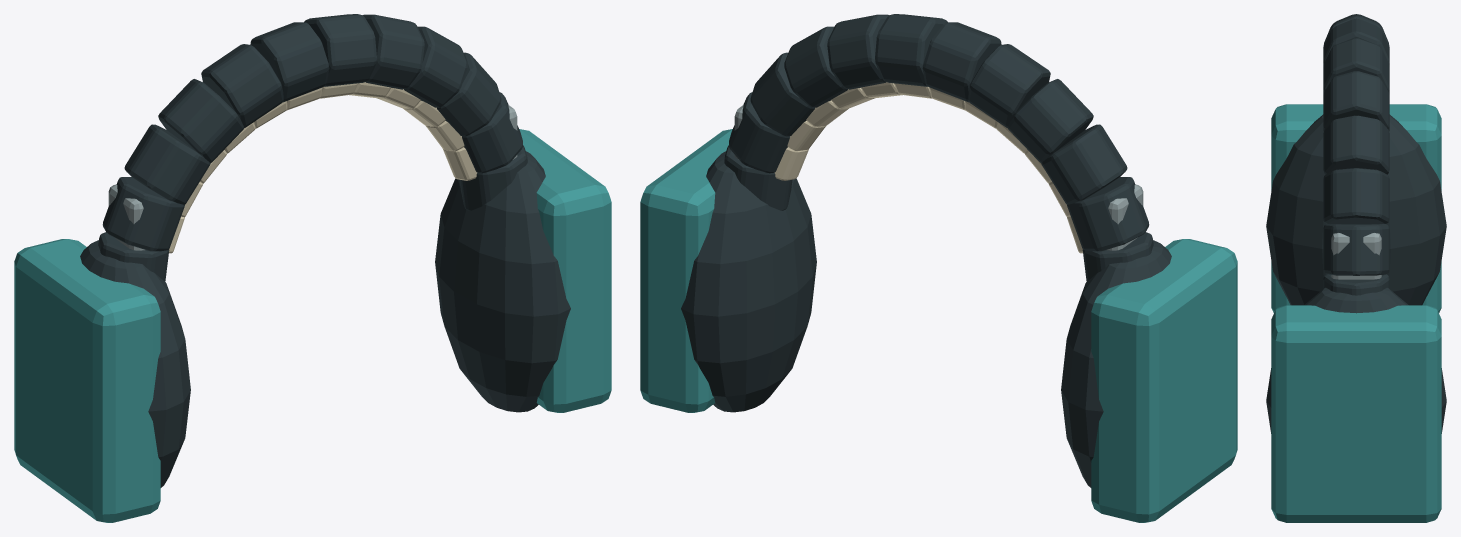
The model's file is P055_headphones.glb.
3 renders of one model, left to right at view 1: azimuth 30°, elevation 25°; view 2: azimuth 150°, elevation 25°; view 3: azimuth 270°, elevation 25°, orthographic. The views are drawn at different scales.
Parts seen in each view (by area): view 1: P055_earcup_026, P055_earpad_028, P055_earcup_029, P055_earpad_025, P055_headband_009, P055_headband_008, P055_headband_010, P055_headband_007, P055_headband_011, P055_headband_006, P055_headband_005, P055_headband_004 (+6 smaller); view 2: P055_earcup_026, P055_earpad_028, P055_earcup_029, P055_earpad_025, P055_headband_009, P055_headband_008, P055_headband_010, P055_headband_007, P055_headband_011, P055_headband_006, P055_headband_005, P055_headband_004 (+6 smaller); view 3: P055_earcup_029, P055_earpad_025, P055_earcup_026, P055_headband_003, P055_headband_004, P055_headband_002, P055_headband_005, P055_earpad_028, P055_headband_006, P055_headband_007, P055_headband_001, P055_slider_030 (+1 smaller).
Part boxes in pixels (x1,y1,x2,y2): P055_earcup_026: (14, 239, 160, 522); P055_earpad_028: (435, 151, 570, 412); P055_earcup_029: (519, 129, 611, 412); P055_earpad_025: (80, 240, 190, 487); P055_headband_009: (158, 79, 244, 162); P055_headband_008: (201, 44, 283, 127); P055_headband_010: (124, 124, 210, 204); P055_headband_007: (250, 22, 329, 102); P055_headband_011: (102, 177, 184, 251); P055_headband_006: (304, 14, 376, 86); P055_headband_005: (362, 14, 424, 89); P055_headband_004: (404, 26, 467, 107); P055_earcup_026: (1091, 239, 1237, 522); P055_earpad_028: (681, 151, 816, 412); P055_earcup_029: (640, 129, 732, 412); P055_earpad_025: (1061, 240, 1171, 487); P055_headband_009: (1007, 79, 1093, 162); P055_headband_008: (968, 44, 1050, 127); P055_headband_010: (1041, 124, 1127, 204); P055_headband_007: (922, 22, 1001, 102); P055_headband_011: (1067, 177, 1149, 251); P055_headband_006: (875, 14, 947, 86); P055_headband_005: (827, 14, 889, 89); P055_headband_004: (784, 26, 847, 107); P055_earcup_029: (1271, 305, 1441, 522); P055_earpad_025: (1266, 114, 1446, 305); P055_earcup_026: (1271, 104, 1441, 312); P055_headband_003: (1323, 168, 1389, 223); P055_headband_004: (1323, 115, 1389, 174); P055_headband_002: (1323, 224, 1389, 275); P055_headband_005: (1323, 71, 1389, 128); P055_earpad_028: (1266, 287, 1446, 433); P055_headband_006: (1323, 38, 1389, 91); P055_headband_007: (1323, 18, 1389, 64); P055_headband_001: (1323, 274, 1389, 295); P055_slider_030: (1331, 233, 1381, 279).
Bounding box in the file's own units: 0.2719 × 0.218 × 0.09.
